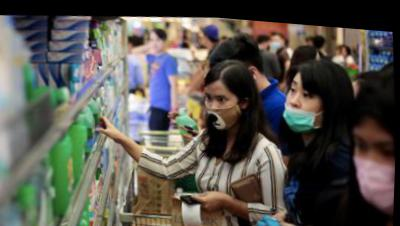NONE: (148, 32, 165, 51)
OK: (349, 118, 397, 207)
WRONG: (282, 69, 329, 130), (203, 81, 244, 128)
